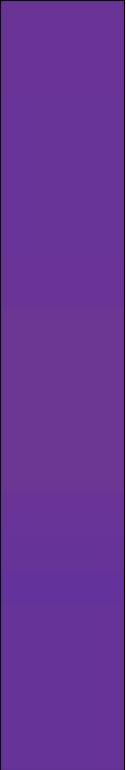safe: (10, 10, 114, 762)
